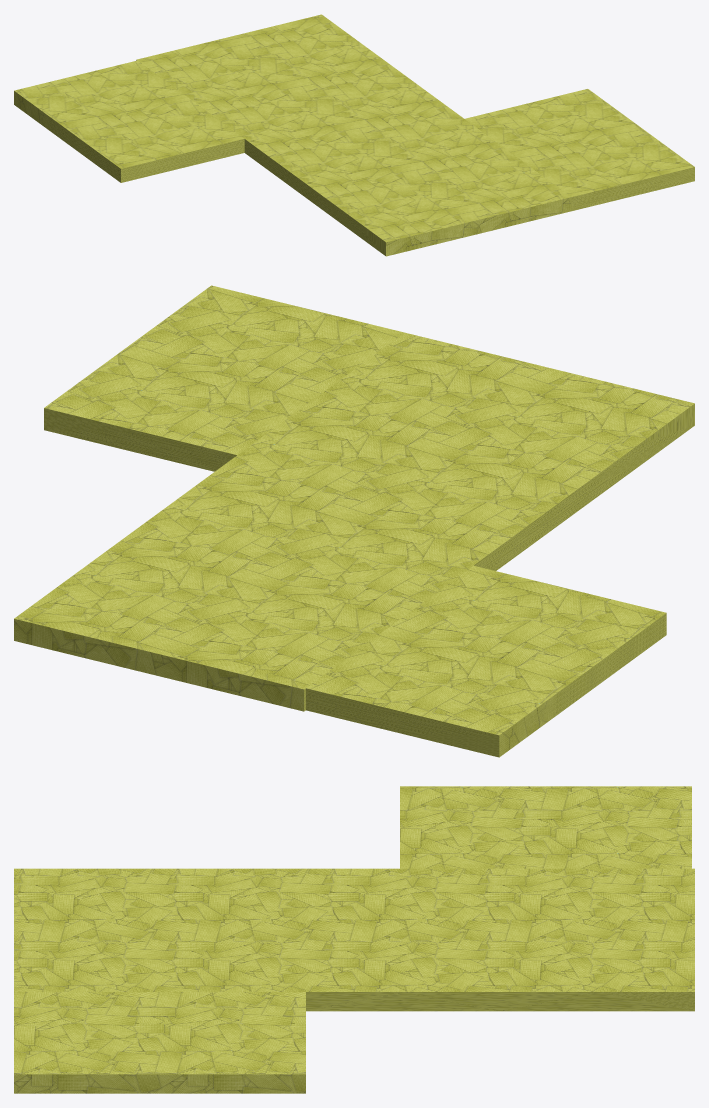
The model's file is level_05.glb.
3 views of the same model, one above another, from view 1: azimuth 30°, elevation 25°; view 2: azimuth 150°, elevation 25°; view 3: azimuth 270°, elevation 25° (orthographic). The views are drawn at different scales.
Parts seen in each view (by area): view 1: Cube, Cube.001, Cube.002; view 2: Cube, Cube.001, Cube.002; view 3: Cube, Cube.002, Cube.001.
Boxes of the visible parts, x1,y1,x2,y2 form: Cube: (136, 14, 571, 256); Cube.001: (14, 60, 244, 182); Cube.002: (465, 89, 694, 211); Cube: (14, 332, 694, 711); Cube.001: (306, 565, 666, 757); Cube.002: (44, 285, 404, 471); Cube: (14, 868, 694, 1011); Cube.002: (14, 992, 305, 1093); Cube.001: (400, 786, 691, 868).
Bounding box in the file's own units: 32 × 1 × 32.
Materials: 1 (1 with a texture image).
